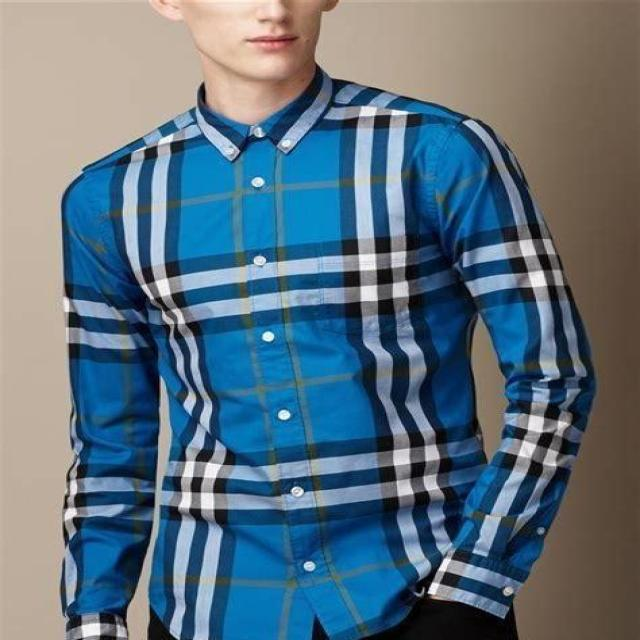shirt: (61, 61, 597, 640)
